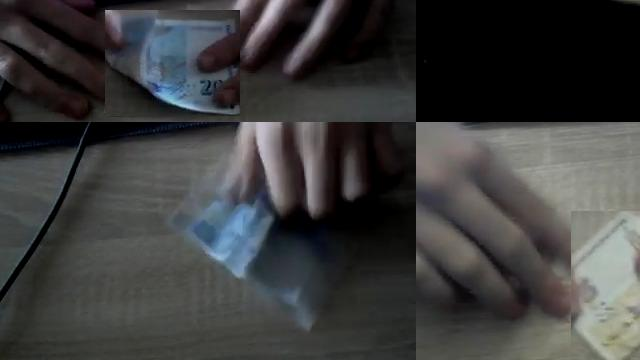10leva: (571, 211, 640, 360)
20leva: (105, 10, 240, 116)
